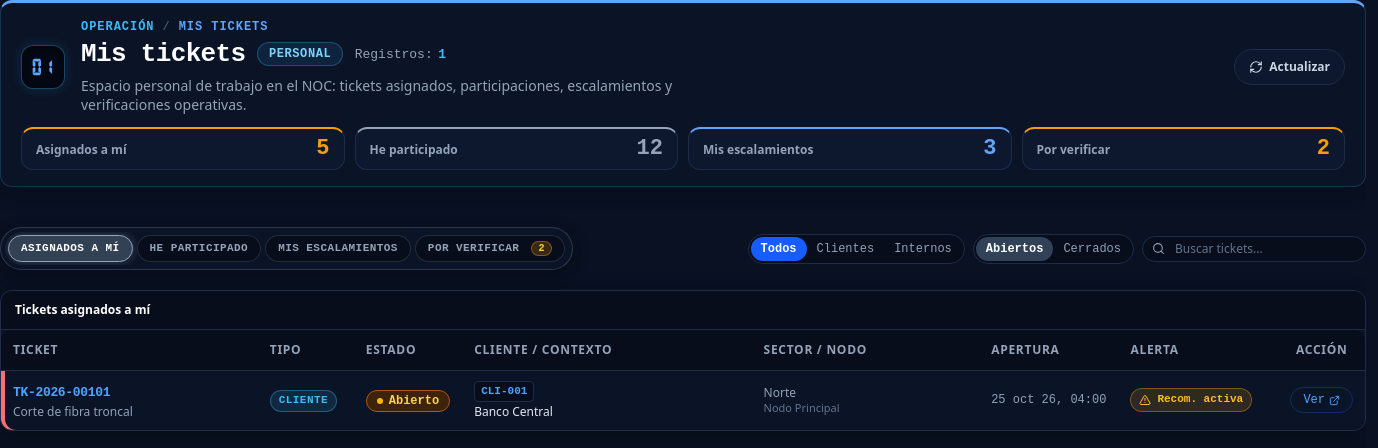
Test: Módulo «Mis tickets» › permite cambiar entre vistas de pestañas y carga la información correspondiente
Note: Cambiar a "Mis escalamientos"
Click the tab "Mis escalamientos" at [338, 249], box x1=265 y1=235 x2=411 y2=262
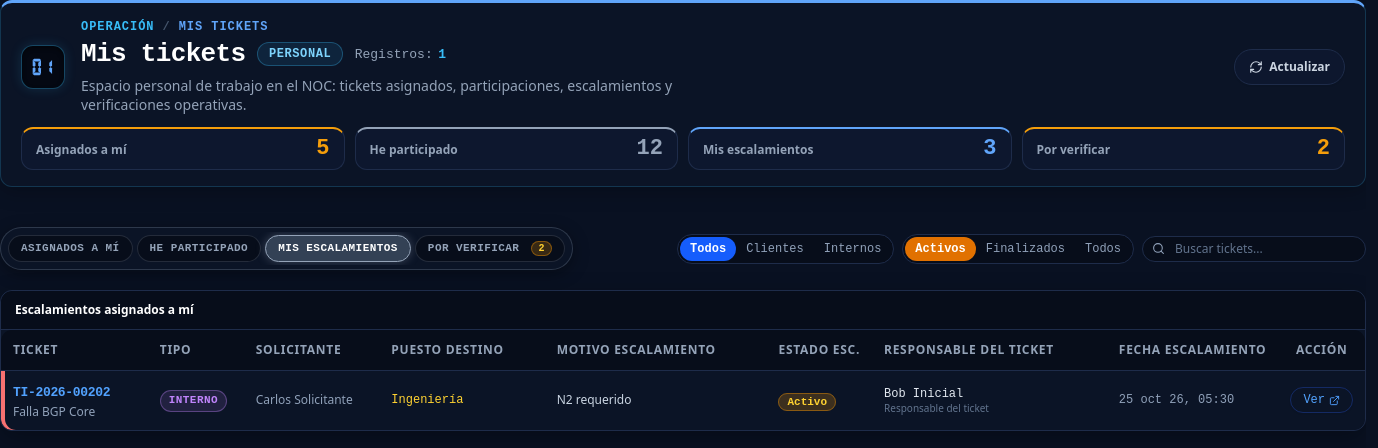
Expected: the text "Escalamientos asignados a mí" is shown, x1=1 y1=291 x2=1365 y2=330
Expected: the link "TI-2026-00202" is shown, x1=13 y1=384 x2=110 y2=400
Expected: the text "Falla BGP Core" is shown, x1=13 y1=403 x2=95 y2=420
Note: Cambiar a "Por verificar"
Click the tab "Por verificar 2" at [490, 249], box x1=415 y1=235 x2=565 y2=262
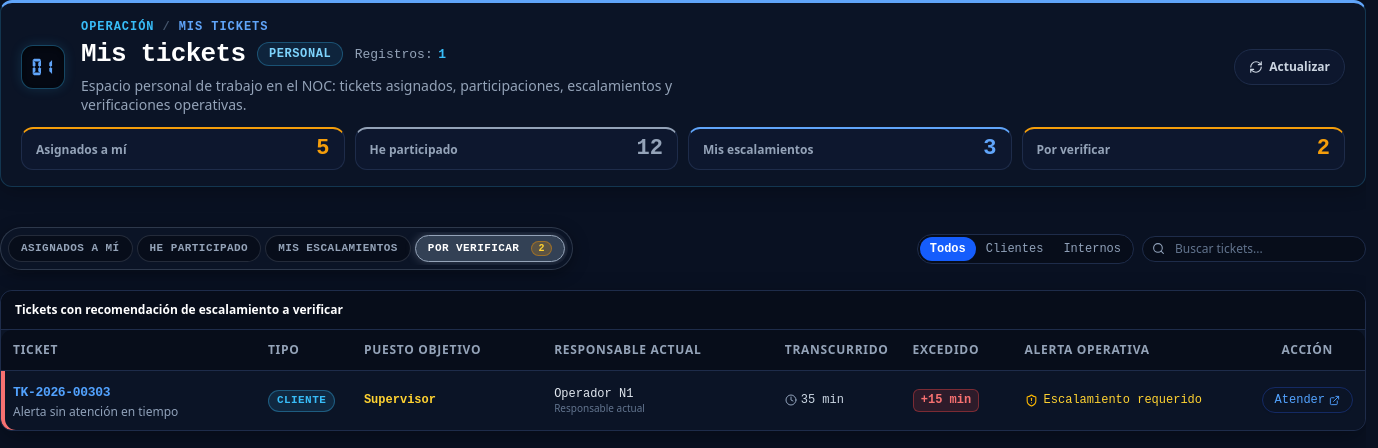
Expected: the link "TK-2026-00303" is shown, x1=13 y1=384 x2=110 y2=400
Expected: the text "Supervisor" is shown, x1=352 y1=370 x2=542 y2=430
Expected: the text "+15 min" is shown, x1=913 y1=389 x2=979 y2=412
